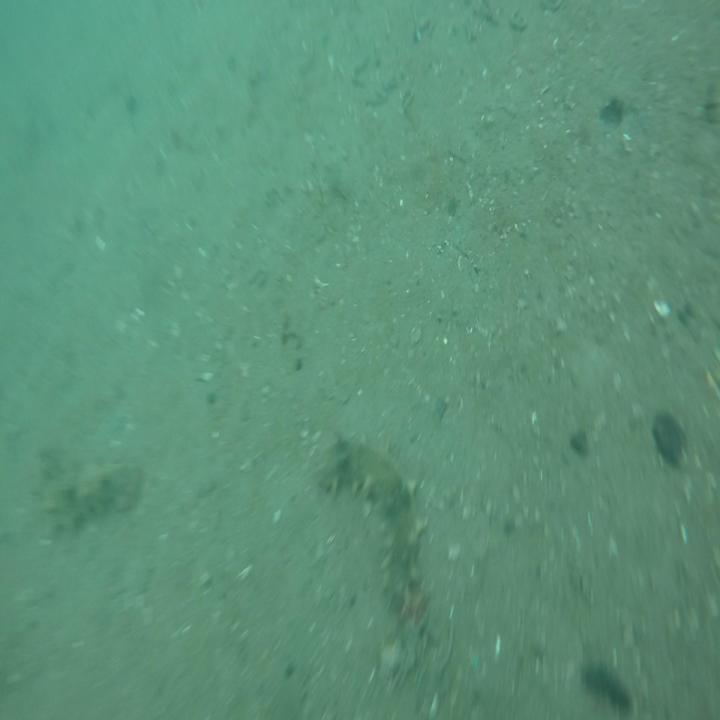holothurian: (316, 429, 428, 607), (34, 455, 147, 535)
